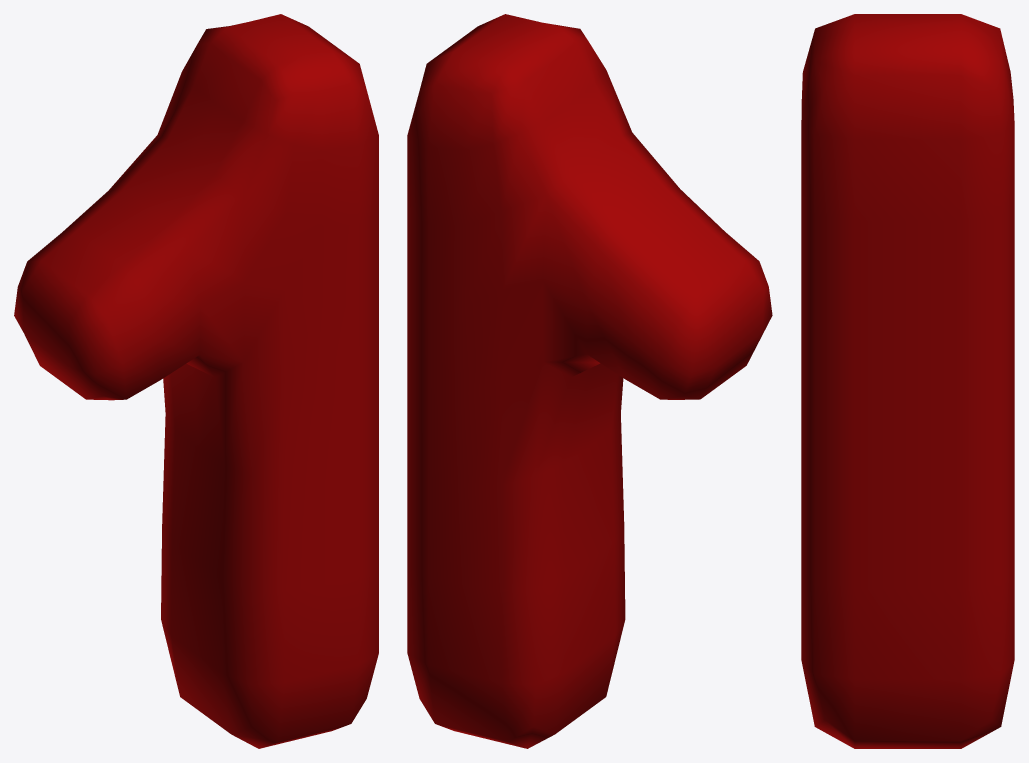
File: mod_no1_v1.fbx
The picture shows the model from 3 angles, left to right: view 1: azimuth 30°, elevation 25°; view 2: azimuth 150°, elevation 25°; view 3: azimuth 270°, elevation 25°; orthographic projection. The views are drawn at different scales.
Visible parts, largest first — view 1: pCube1; view 2: pCube1; view 3: pCube1.
Part boxes in pixels (x1,y1,x2,y2): pCube1: (14,14,378,748); pCube1: (407,14,772,748); pCube1: (801,14,1014,748).
Bounding box in the file's own units: 0.2204 × 0.4809 × 0.1312.
